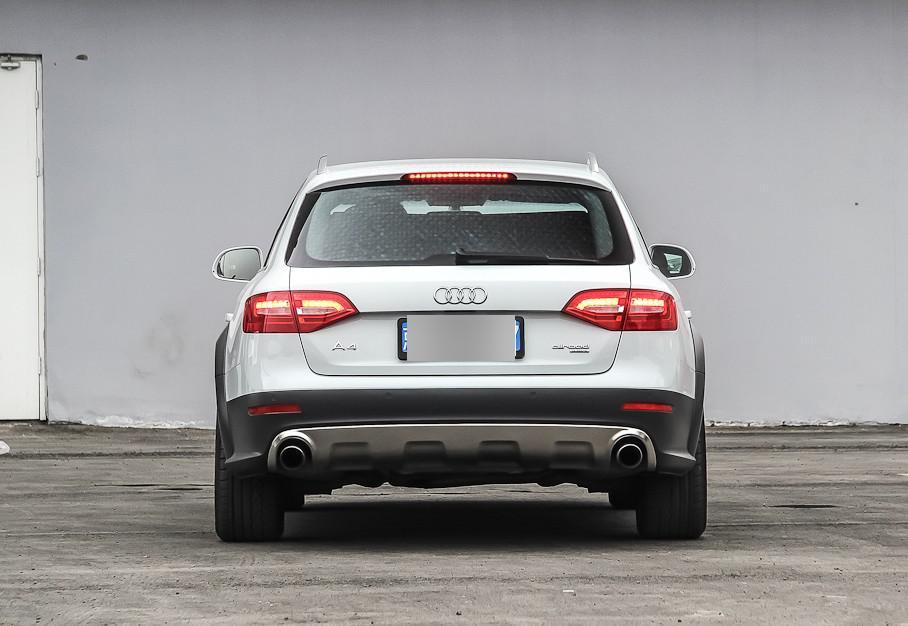Wagon: (210, 150, 709, 542)
